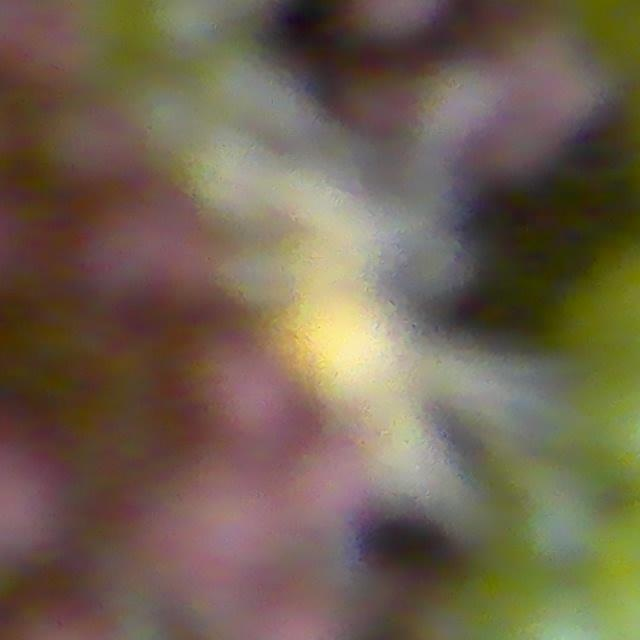SeaGrape: (144, 452, 291, 583), (169, 351, 308, 474), (82, 200, 214, 316)
